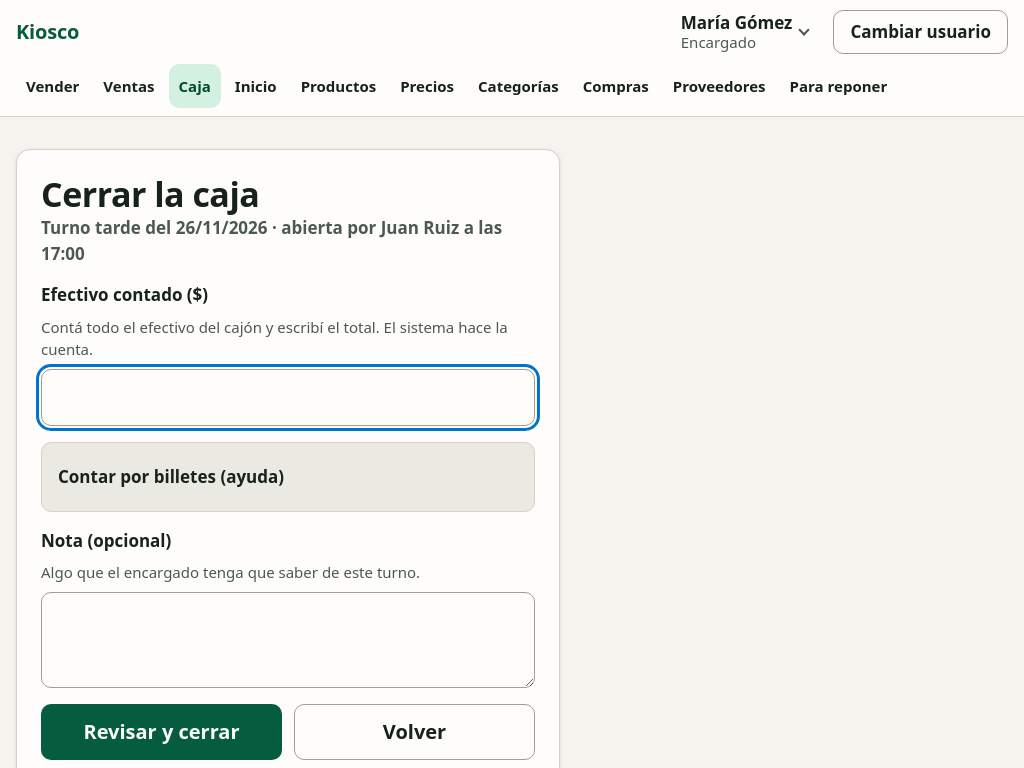
cierre de caja a ciegas › el encargado, al cerrar, ve la diferencia: esperado $ 7.500, contado $ 7.400, −$ 100
Step 1. Type "7400" into the field labelled "Efectivo contado ($)" → (288, 397), box [41,369,535,426]
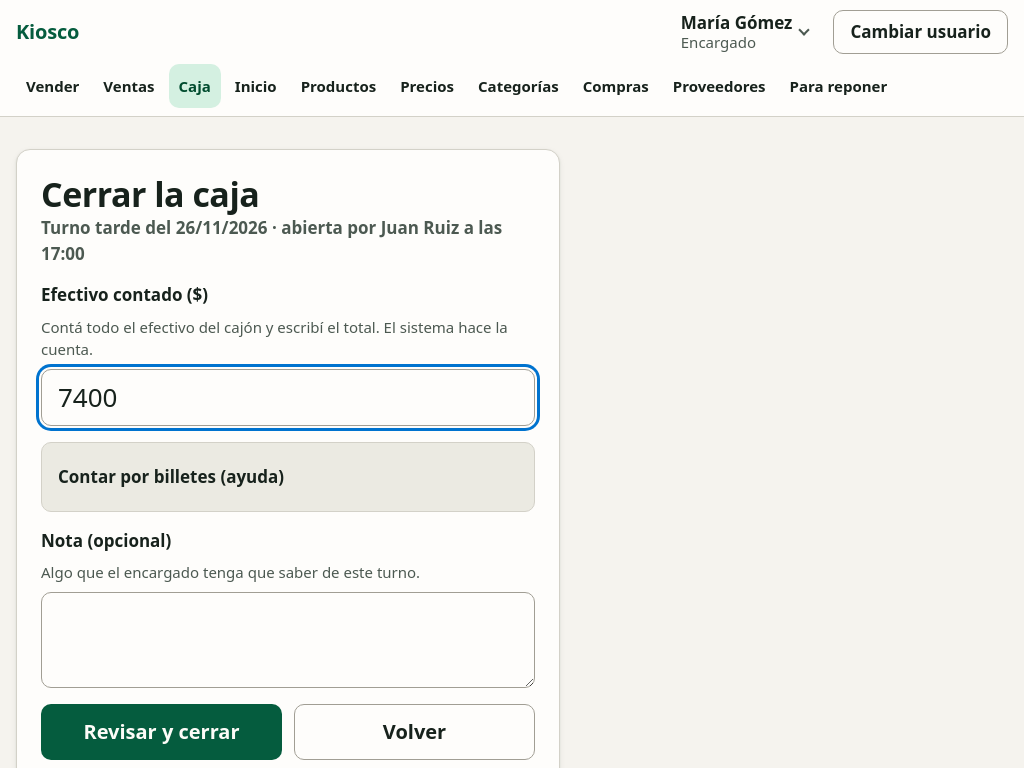
Step 2. Click the button "Revisar y cerrar" → (162, 732), box [41,704,282,760]
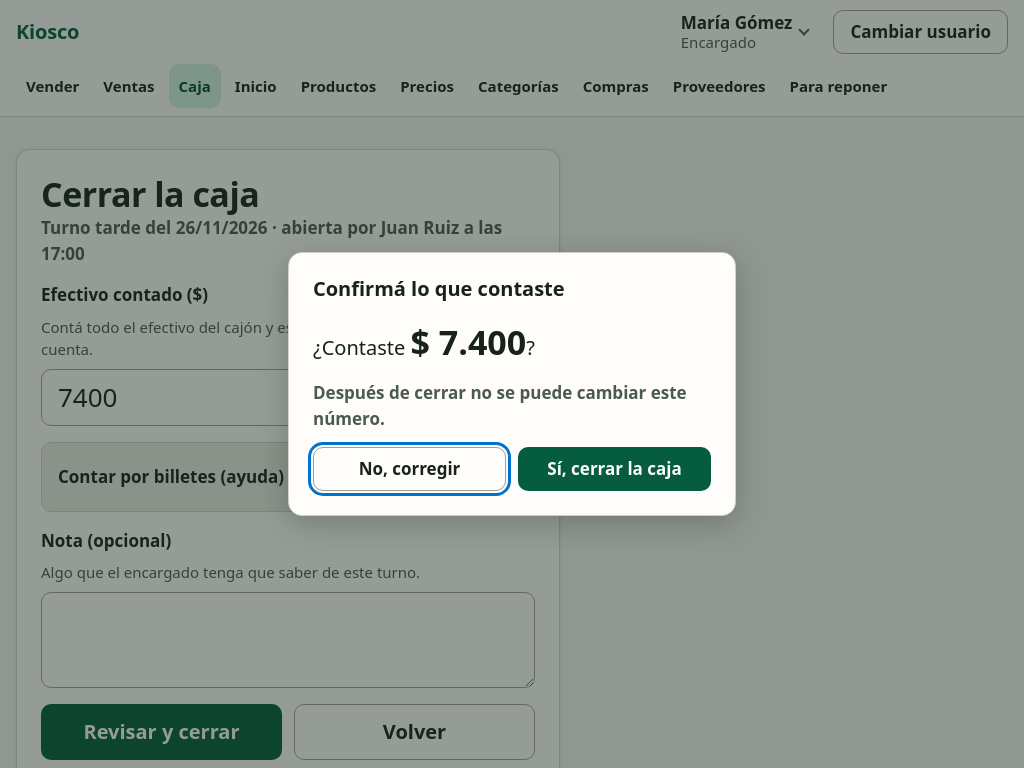
Step 3. Click the button "Sí, cerrar la caja" → (614, 469), box [518,447,711,491]
(page scrolled)
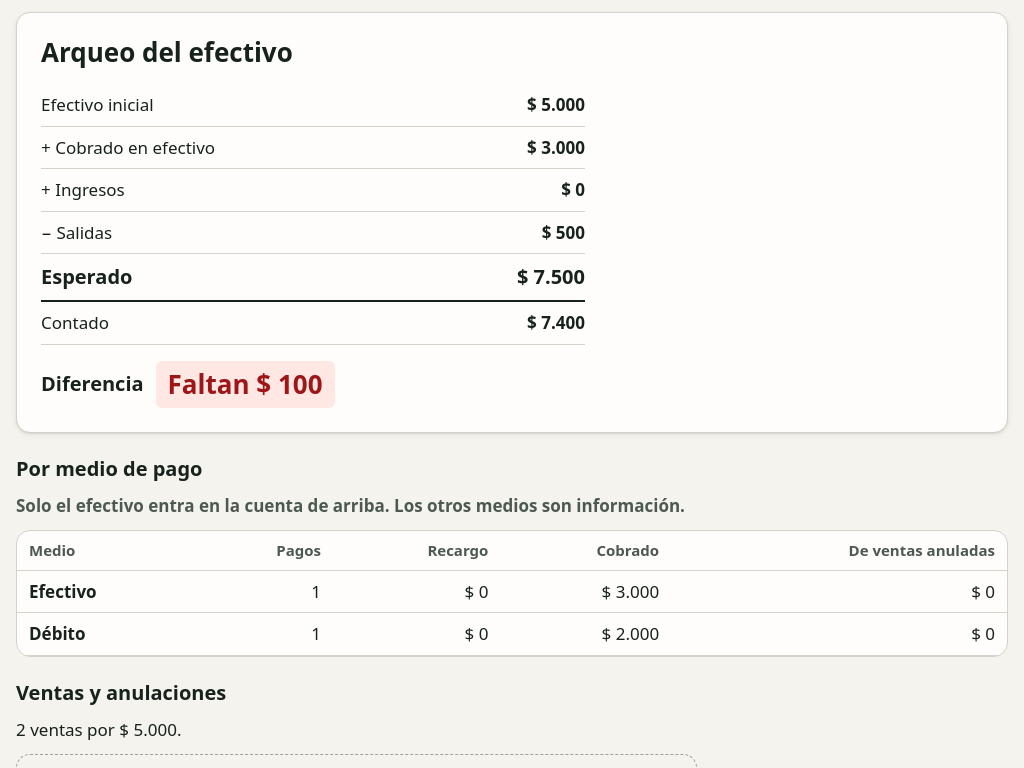
expect the text "$ 7.400" is shown: met, box [527,310,585,336]
expect the text "$ 7.500" is shown: met, box [517,262,585,292]
expect the text "Faltan $ 100" is shown: met, box [156,361,335,408]
